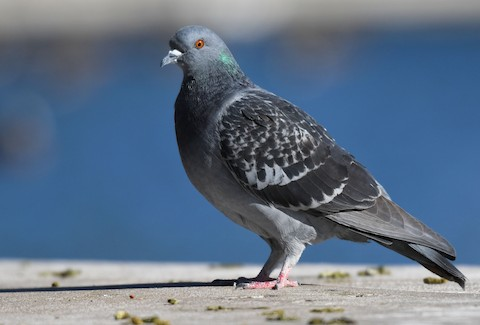pigeon: (160, 24, 469, 294)
